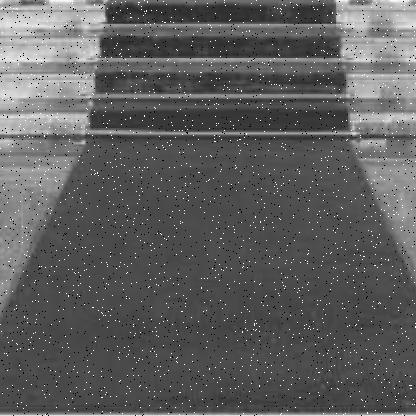stair_up: (87, 0, 362, 150)
